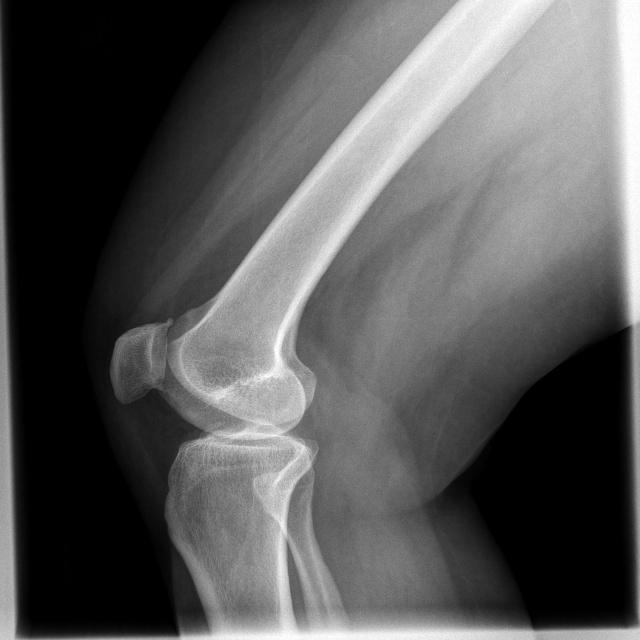Knee: (105, 307, 318, 506)
